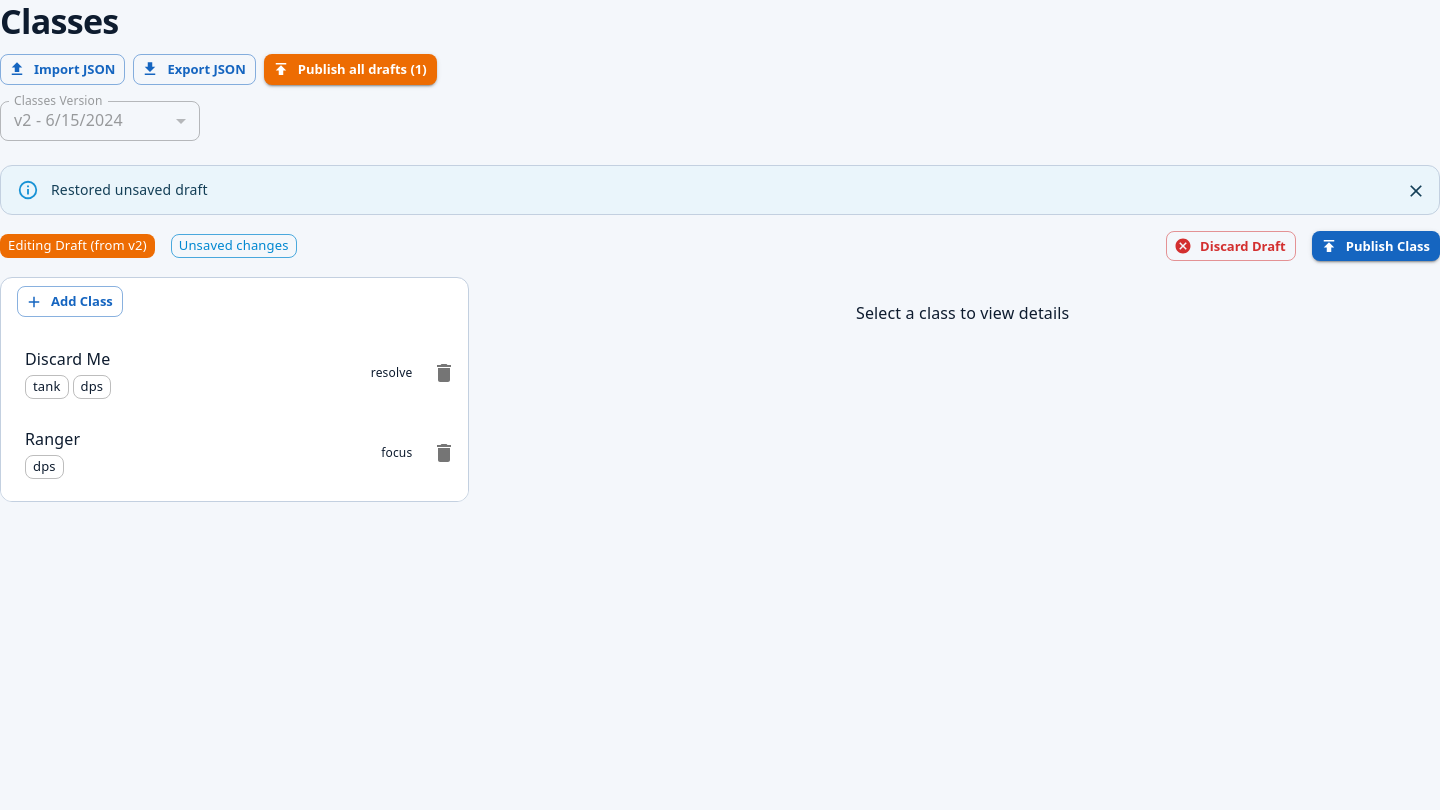
Scenario: Draft persistence (MMO-29) › asks for confirmation before discard and then clears storage
The image size is (1440, 810).
Check: the text "Discard Me" is shown, box [25,348,110,370]
Click the button "Discard Draft" at (1231, 246), box [1166,231,1296,261]
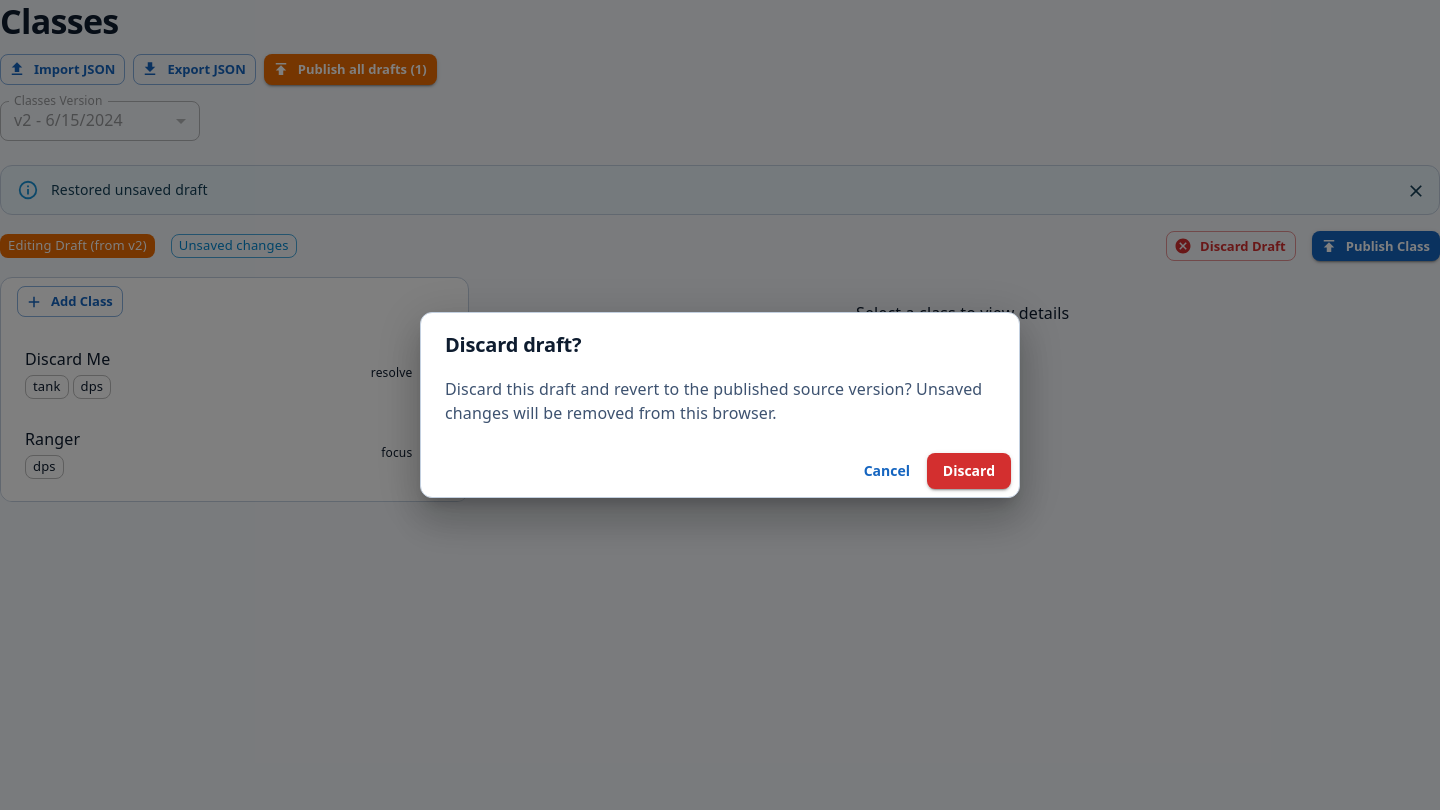
Check: the dialog "Discard draft" is shown, box [420,312,1020,498]
Check: the text "revert to the published source version" is shown, box [445,378,982,424]
Click the button "Cancel" at (887, 471), box [855,453,919,489]
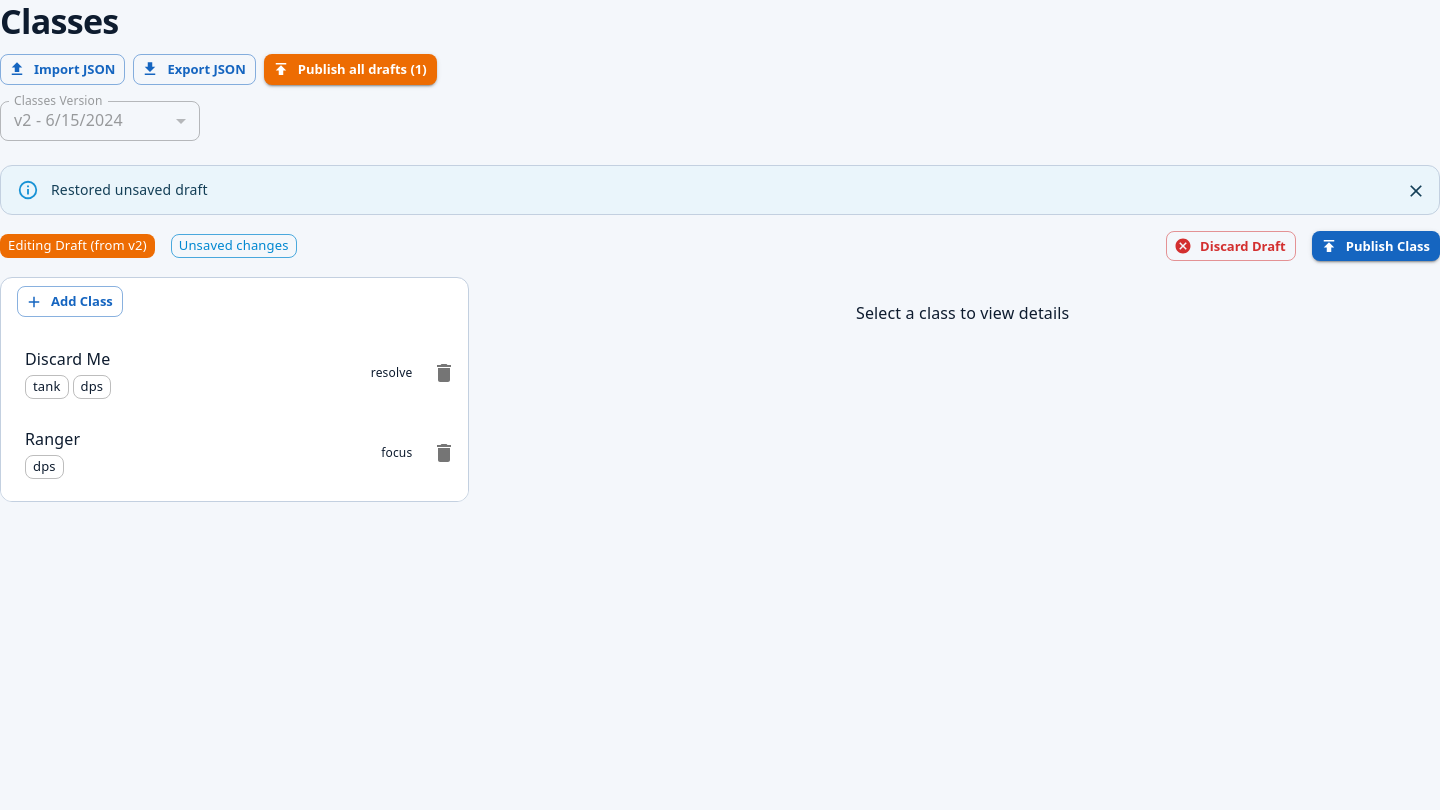
Check: the text "Discard Me" is shown, box [25,348,110,370]
Click the button "Discard Draft" at (1231, 246), box [1166,231,1296,261]
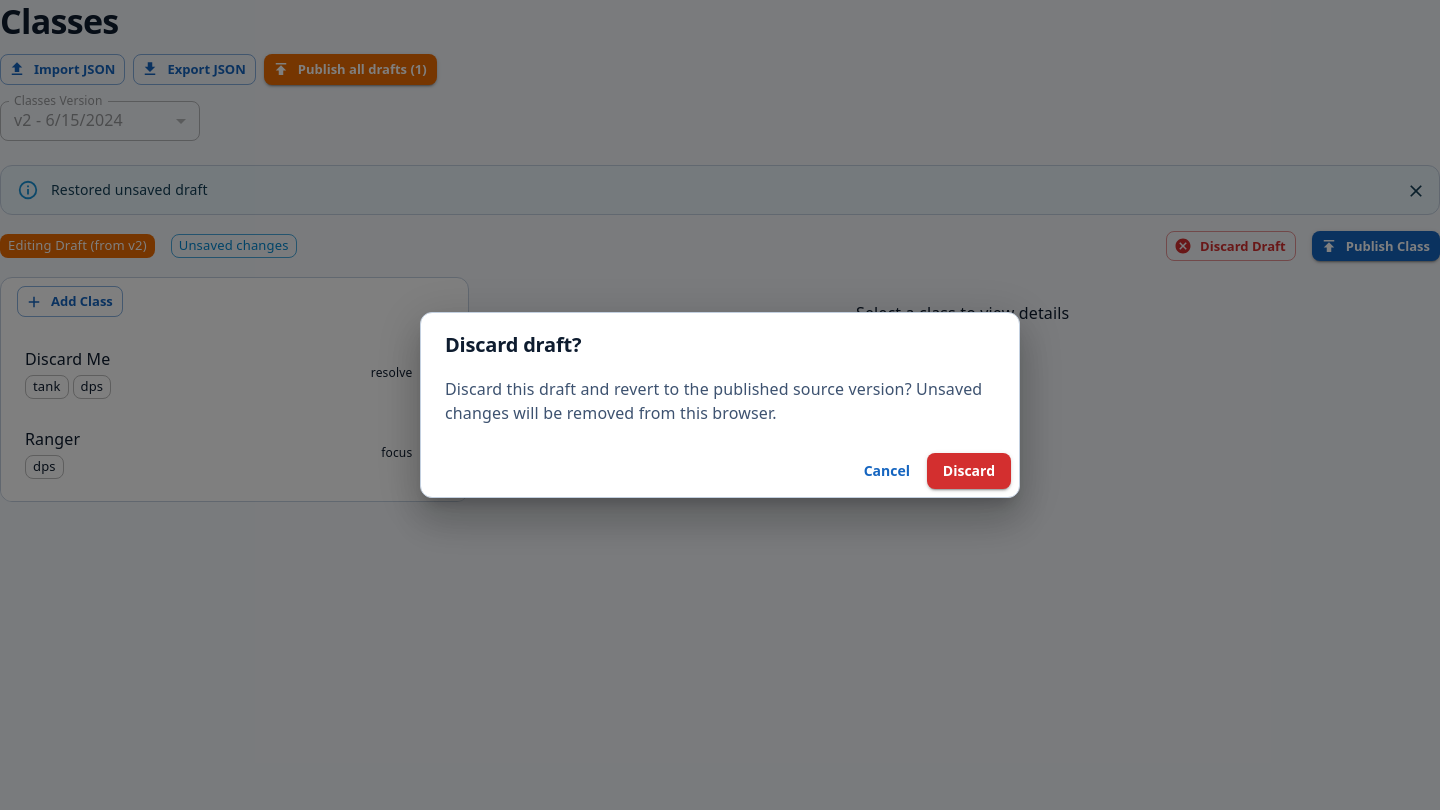
Click the button "Discard" at (969, 471), box [927,453,1011,489]
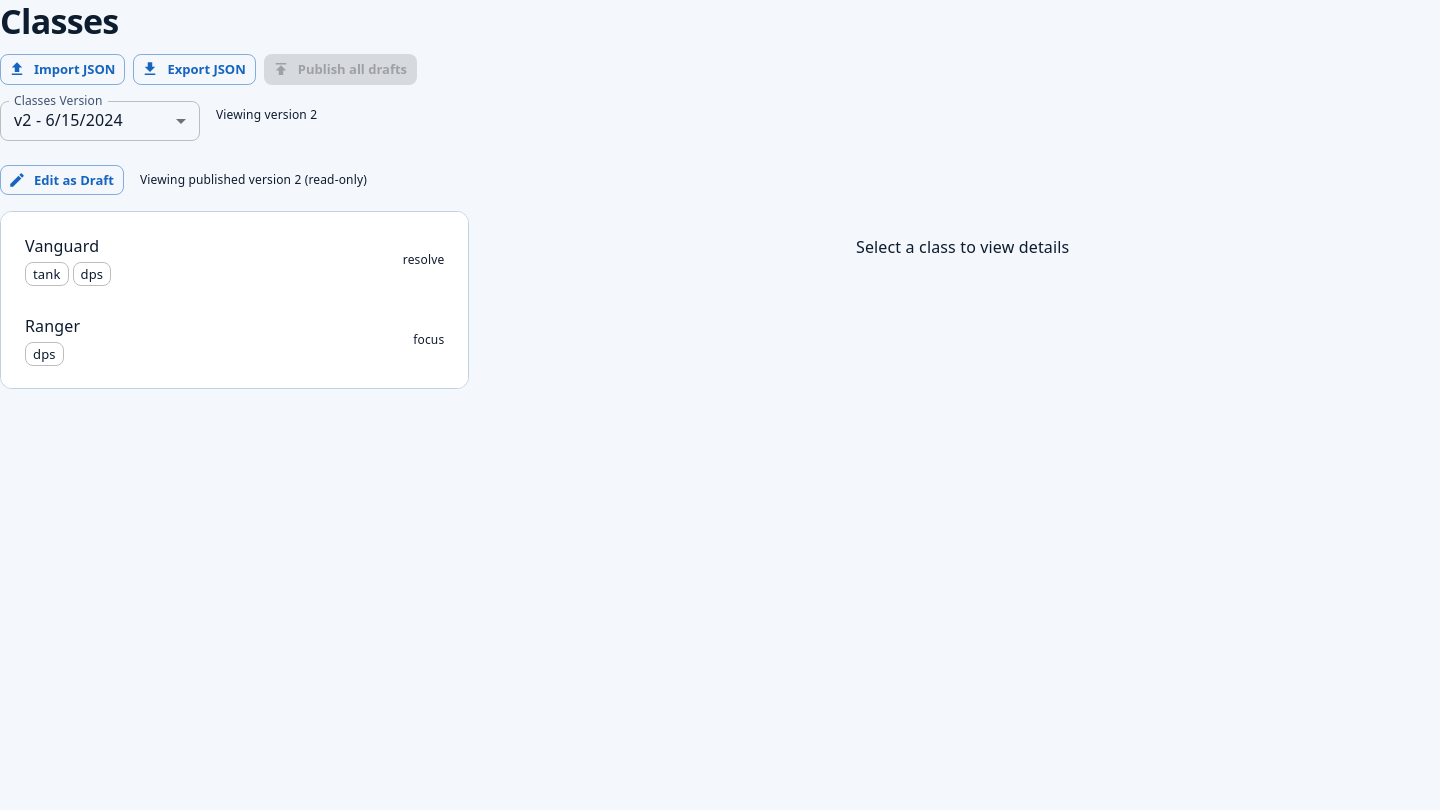
Check: the button "Discard Draft" is gone
Check: the button "Discard Me" is gone
Check: the text "Vanguard" is shown, box [25,235,99,257]
